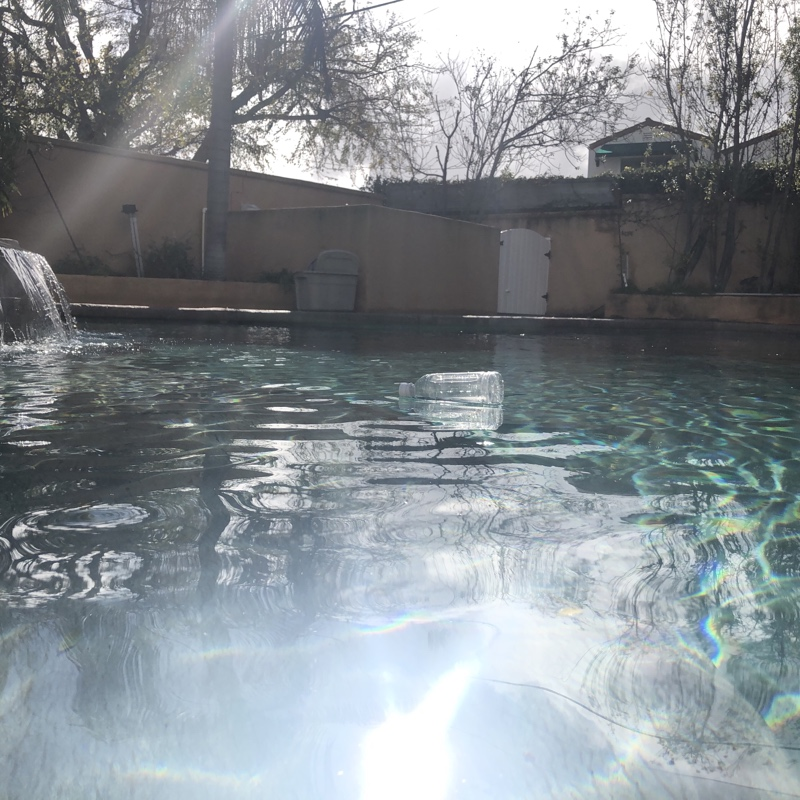Plastic Bottle: (395, 365, 505, 412)
